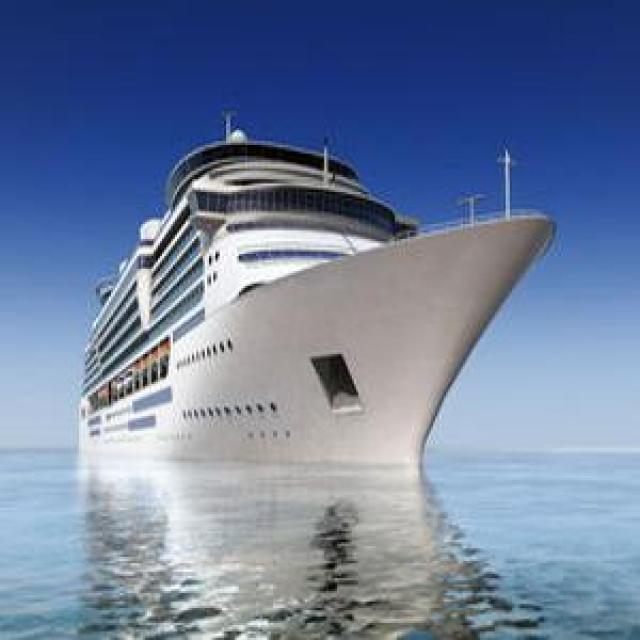passenger ship: (81, 104, 558, 477)
